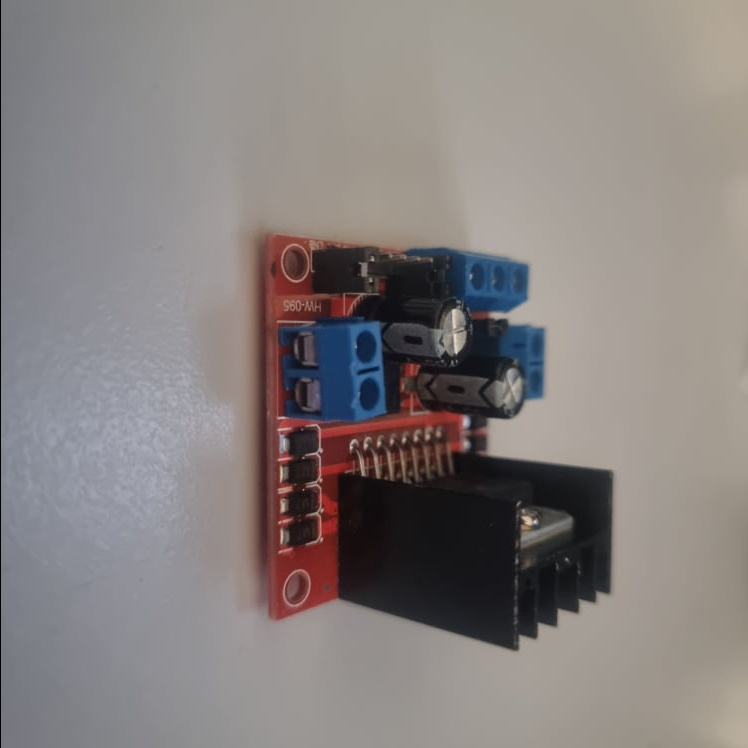MOTOR: (264, 234, 615, 650)
